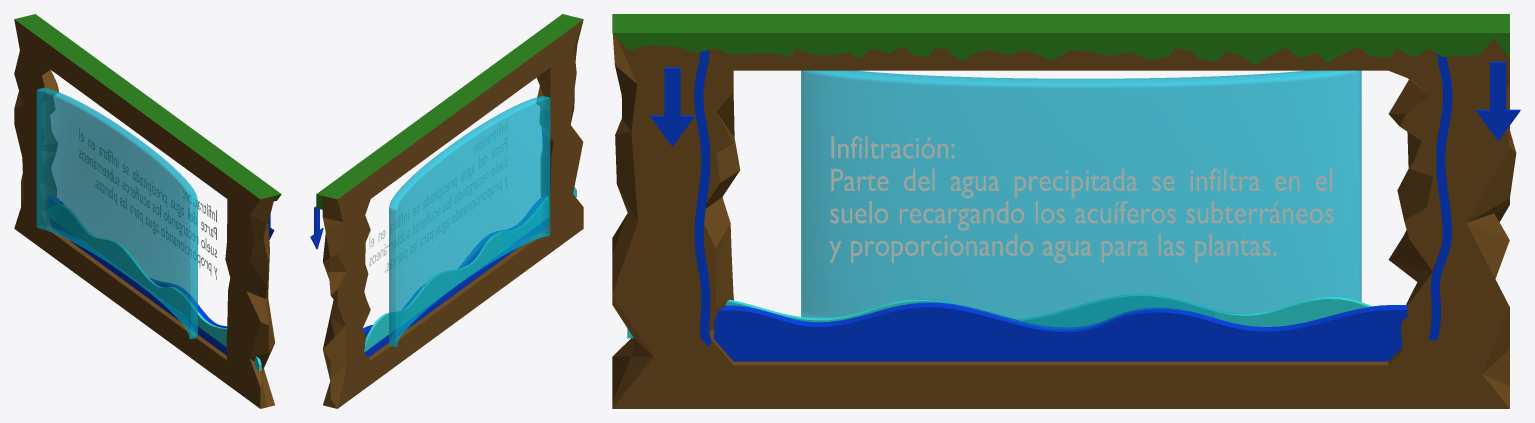
File: 1infiltracion.glb
3 views of the same model, side by side, from view 1: azimuth 30°, elevation 25°; view 2: azimuth 150°, elevation 25°; view 3: azimuth 270°, elevation 25° (orthographic). The views are drawn at different scales.
Parts seen in each view (by area): view 1: marco, Cube, agua2, agua, infiltracion; view 2: marco, Cube, agua2, agua, infiltracion, Plano.002; view 3: marco, Cube, agua, infiltracion, agua2, Curva_Bezier, Curva_Bezier.003, Plano.002, Plano.001.
Part boxes in pixels (x1,y1,x2,y2): marco: [14, 14, 281, 408]; Cube: [36, 87, 197, 339]; agua2: [46, 204, 261, 370]; agua: [47, 195, 227, 355]; infiltracion: [79, 128, 217, 279]; marco: [316, 14, 583, 408]; Cube: [389, 95, 550, 347]; agua2: [364, 187, 576, 352]; agua: [363, 196, 547, 357]; infiltracion: [369, 119, 506, 272]; Plano.002: [310, 206, 323, 249]; marco: [612, 14, 1516, 408]; Cube: [801, 70, 1361, 329]; agua: [714, 302, 1407, 361]; infiltracion: [829, 136, 1333, 262]; agua2: [627, 293, 1371, 338]; Curva_Bezier: [694, 50, 711, 346]; Curva_Bezier.003: [1428, 54, 1452, 340]; Plano.002: [1475, 61, 1520, 140]; Plano.001: [650, 67, 694, 146].
Size of the model in its own units: 0.323 by 1.5 by 3.24.
